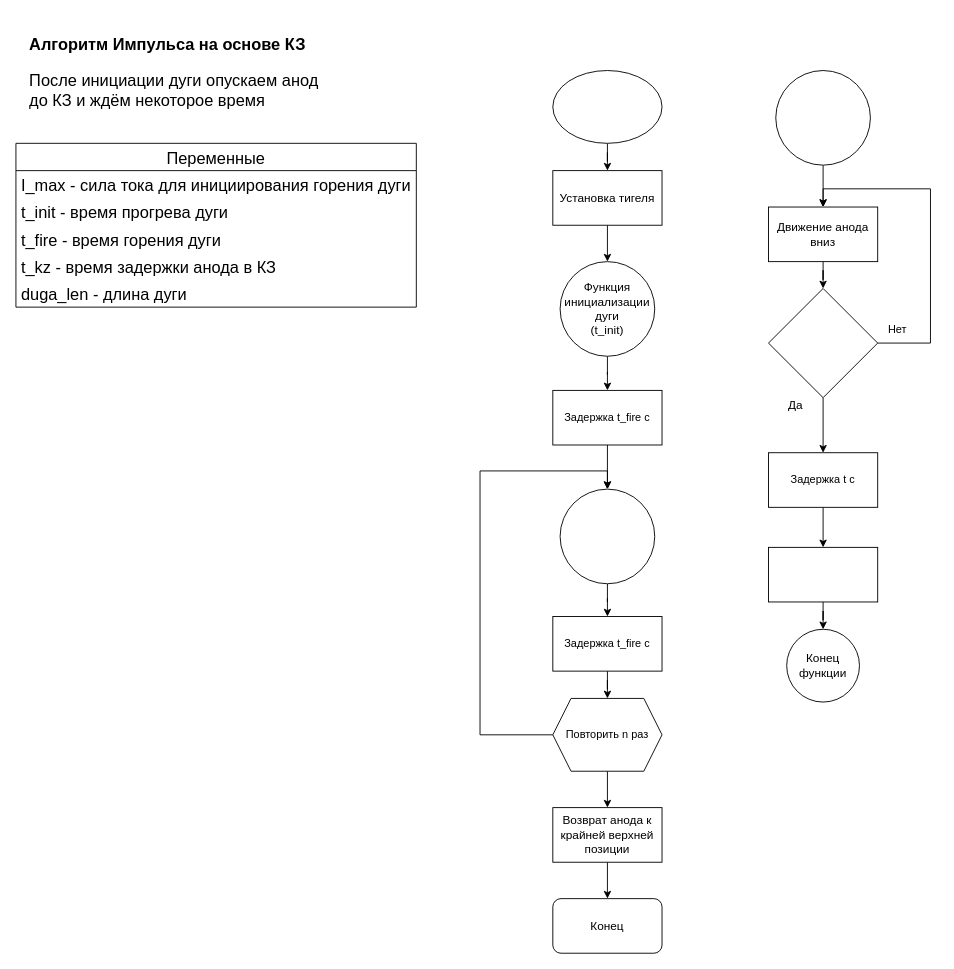
This 954x969 diagram has some shape labels left out. Here are the shapes that lost their labels. From the top down, the centre of each, then its label:
point 607,106: Начало
point 822,117: Функция инициализации дуги (агрумент - t)
point 823,343: Ток > I_max А
point 607,536: Функция инициализации дуги (t_kz)
point 823,574: Движение вверх на duga_len мм
